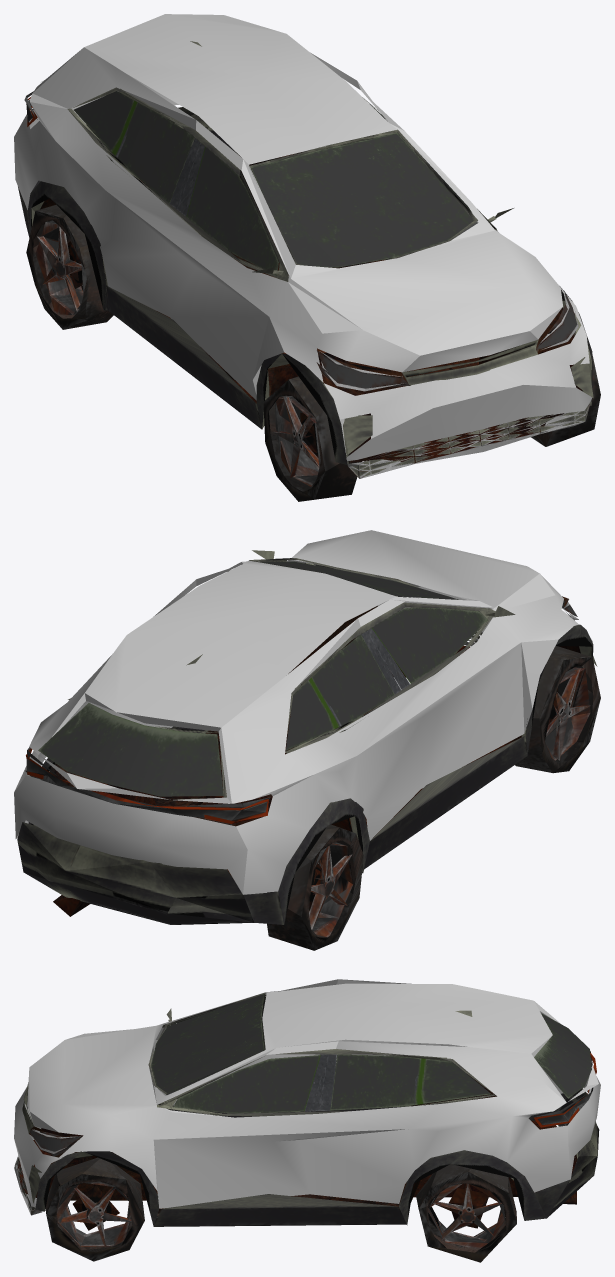
File: car2-lod3.fbx
3 views of the same model, one above another, from view 1: azimuth 30°, elevation 25°; view 2: azimuth 150°, elevation 25°; view 3: azimuth 270°, elevation 25° (orthographic). The views are drawn at different scales.
Parts seen in each view (by area): view 1: car2-lod3; view 2: car2-lod3; view 3: car2-lod3.
Boxes of the visible parts, x1,y1,x2,y2 form: car2-lod3: [14, 14, 600, 501]; car2-lod3: [14, 530, 600, 950]; car2-lod3: [14, 979, 600, 1262].
Bounding box in the file's own units: 1.83 × 1.62 × 4.21.
